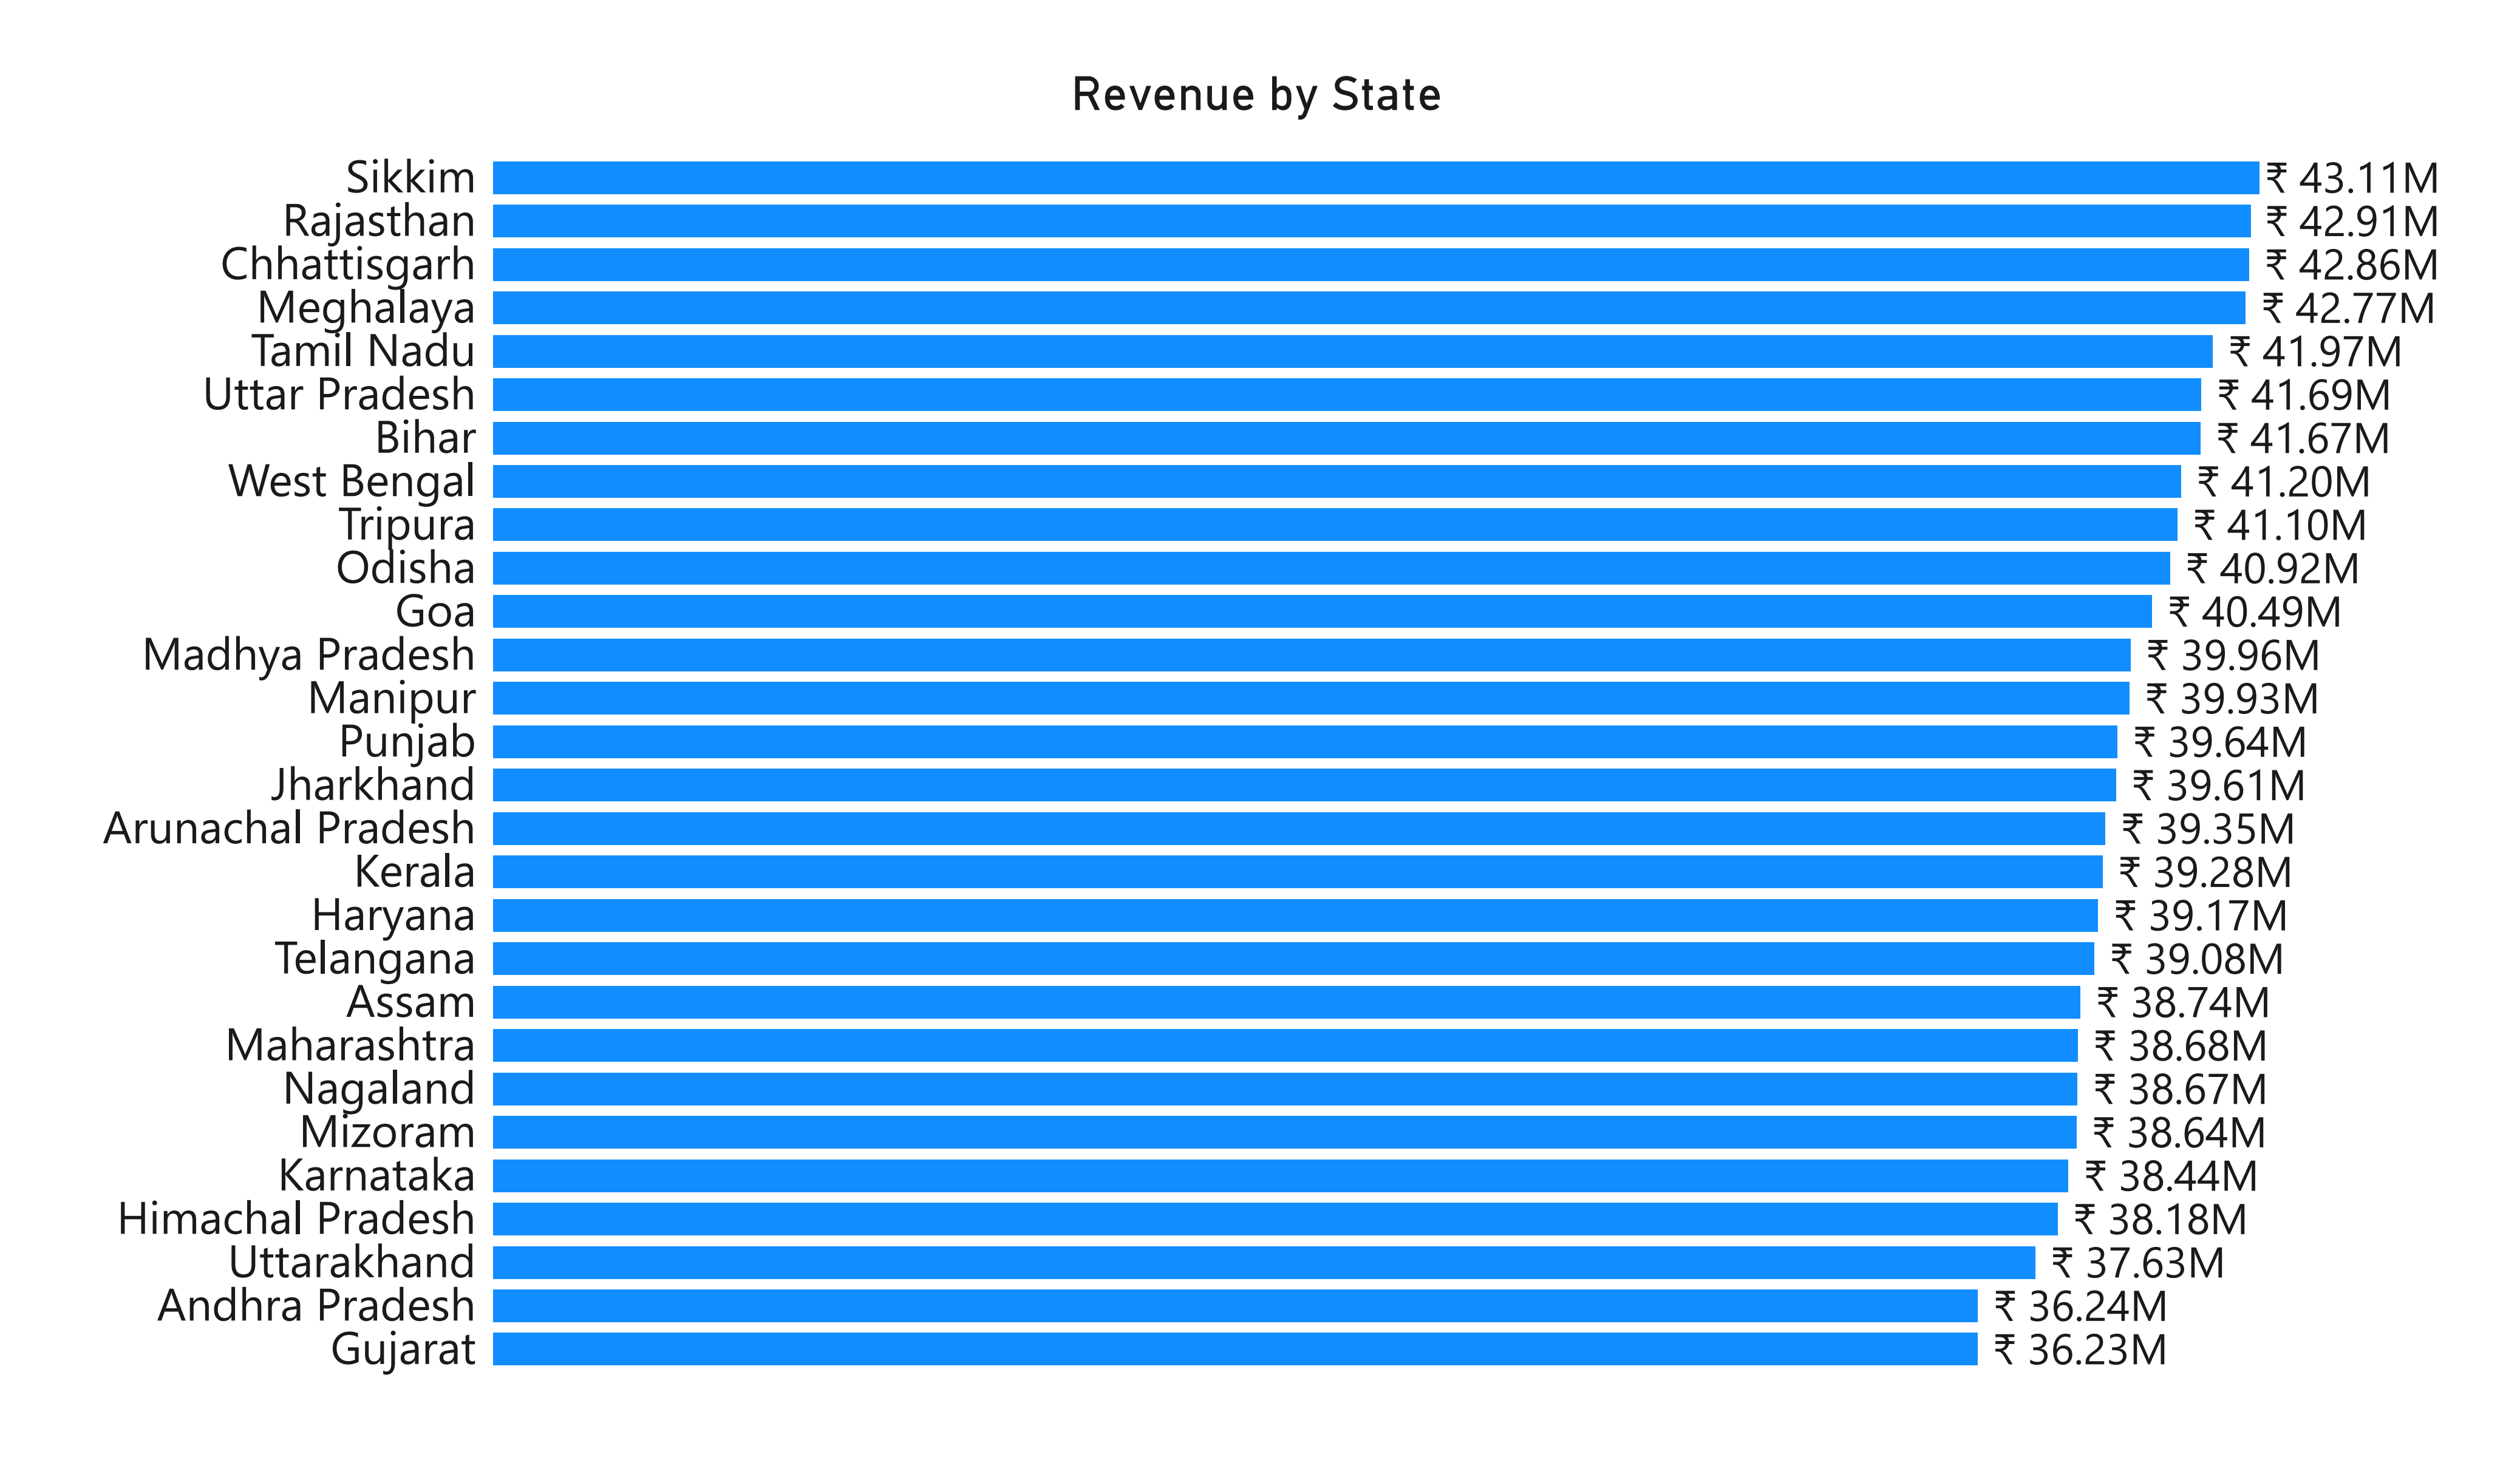

What the dashboard file says about the page in this screenshot:
{"tool":"powerbi","page":{"name":"Revenue by State","canvas":[1280,720],"ordinal":1},"visuals":[{"type":"clusteredBarChart","title":"Revenue by State","fields":{"Category":["amazon sales 2025.State"],"Y":["Sum(amazon sales 2025.Total Revenue)"]},"box":[10,0,1270,720],"z":0}]}

Visuals, with their boxes on the page's 1280x720 design canvas (x1, y1, x2, y2). These are canvas units, not pixel positions in the 2520x1457 screenshot, which may show the page scaled, cropped or inside an application window:
"Revenue by State" clusteredBarChart: Rect(10, 0, 1280, 720)
